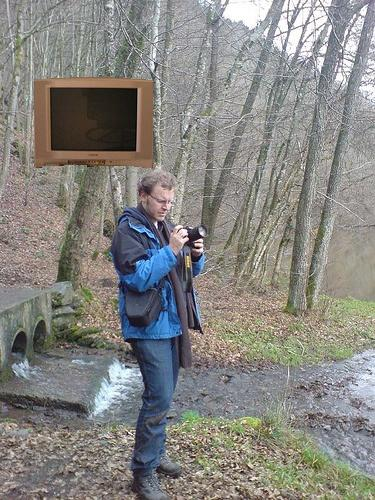tampered: (35, 78, 153, 168)
